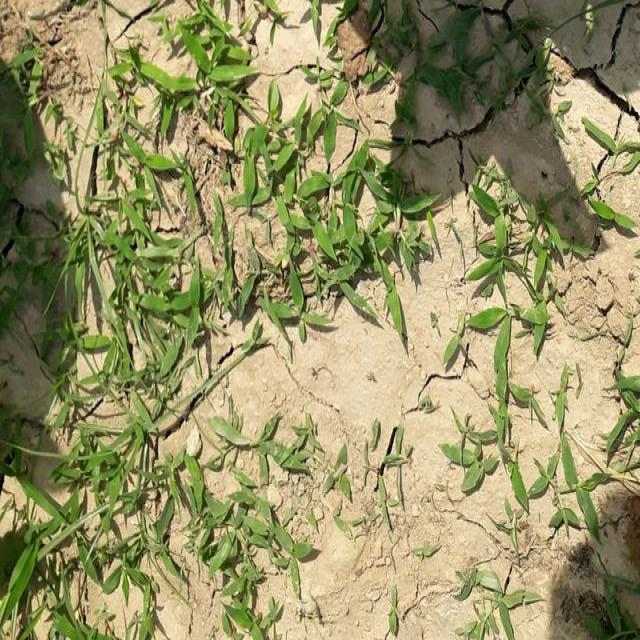weed: (78, 17, 434, 326), (0, 405, 329, 640)
